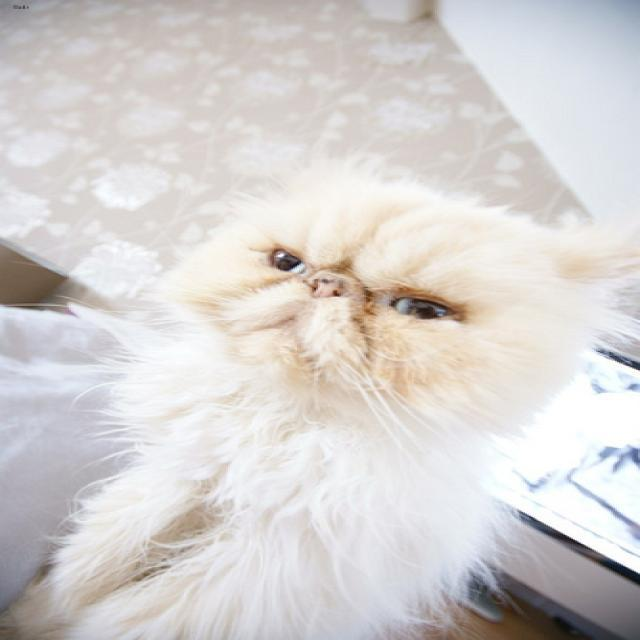Persian: (178, 163, 638, 389)
